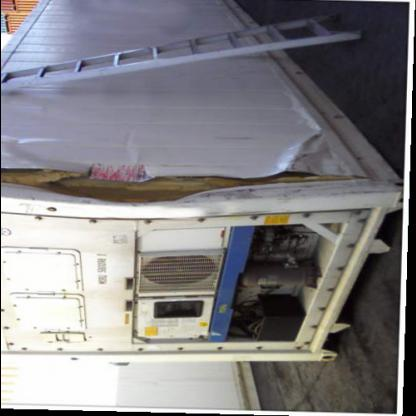Damage: (8, 137, 378, 247)
